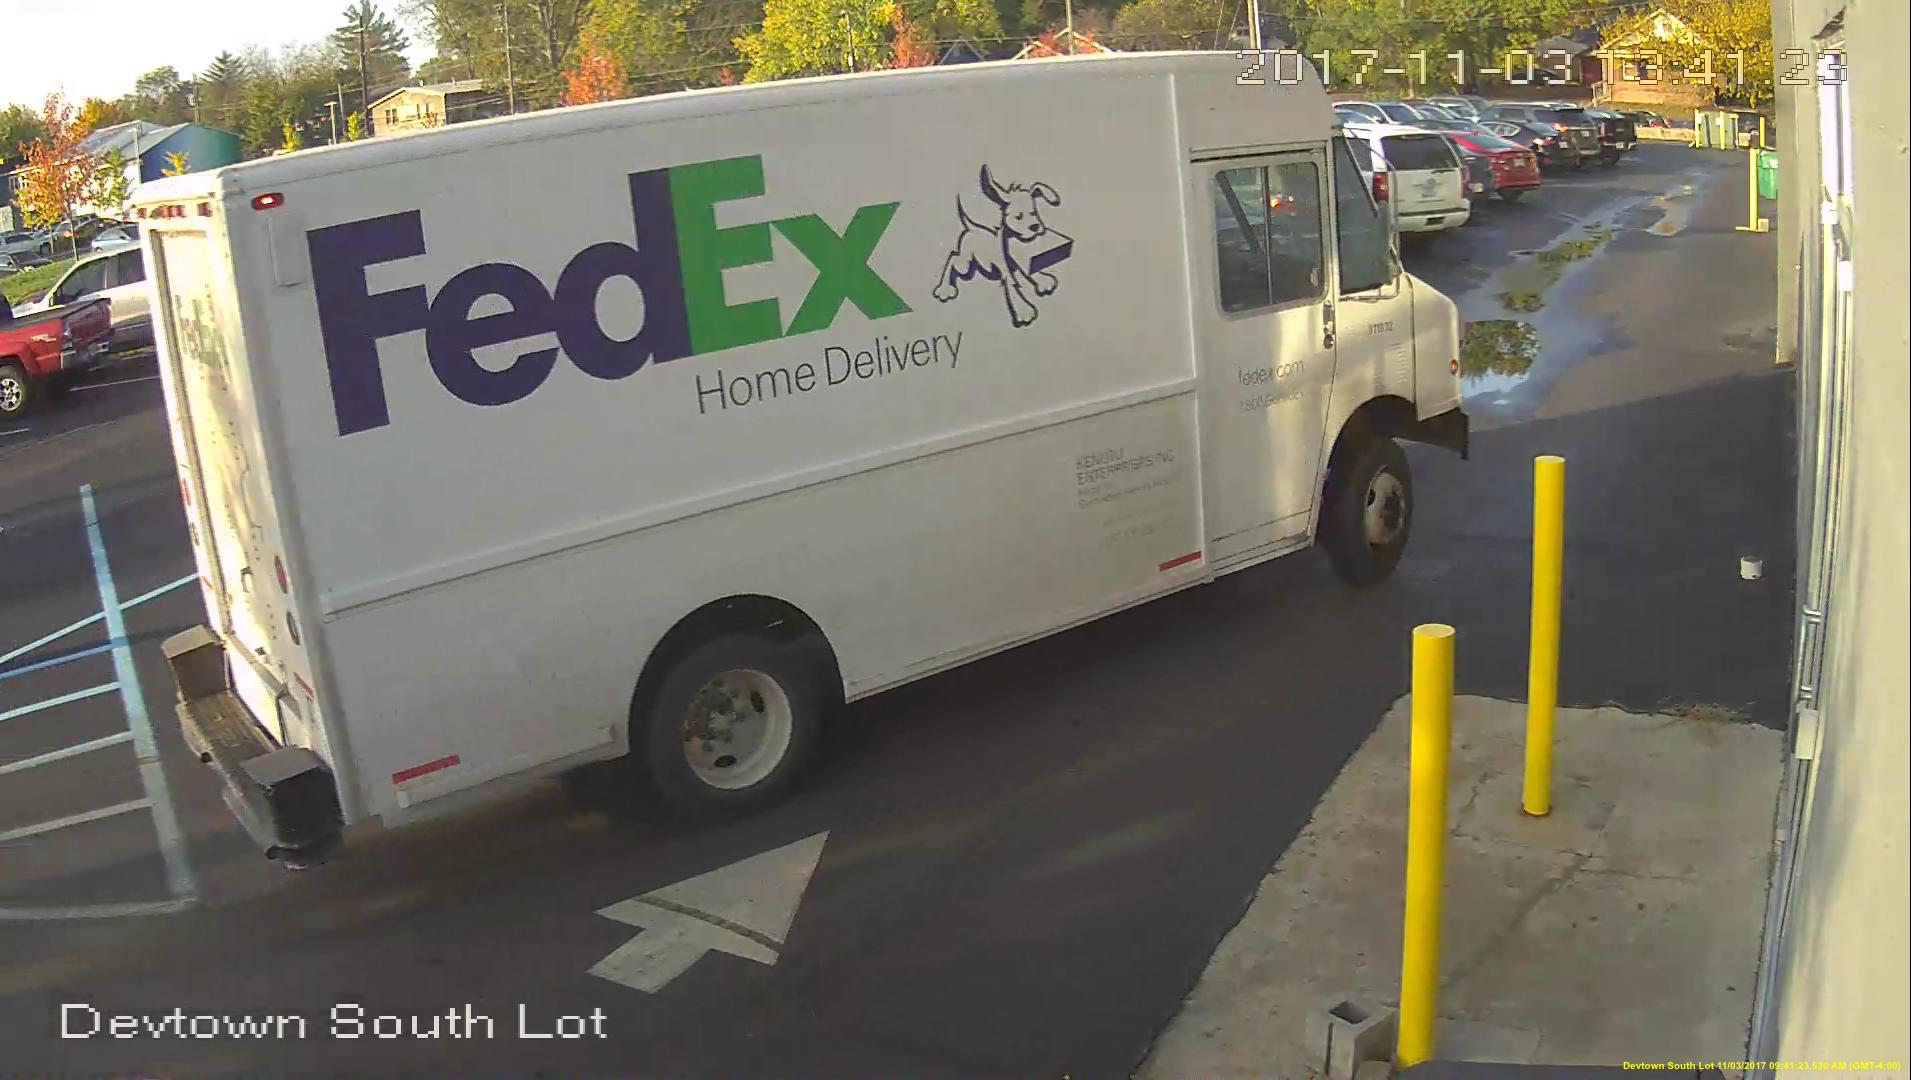fedex_truck: (133, 18, 1467, 865)
